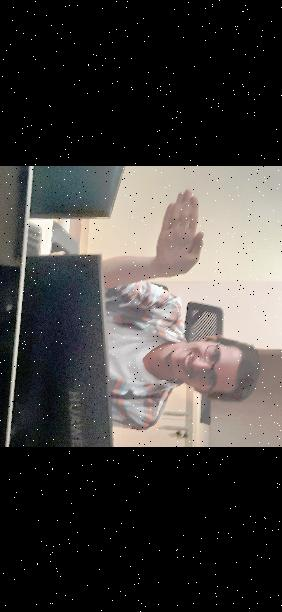Paper: (154, 186, 210, 276)
